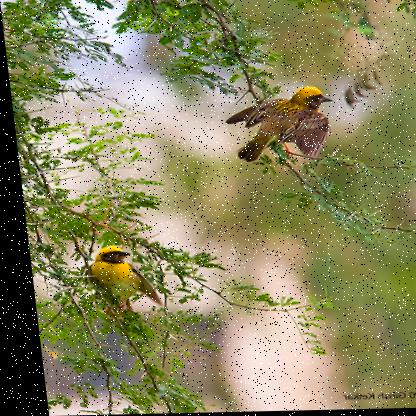Burung: (221, 87, 337, 163)
